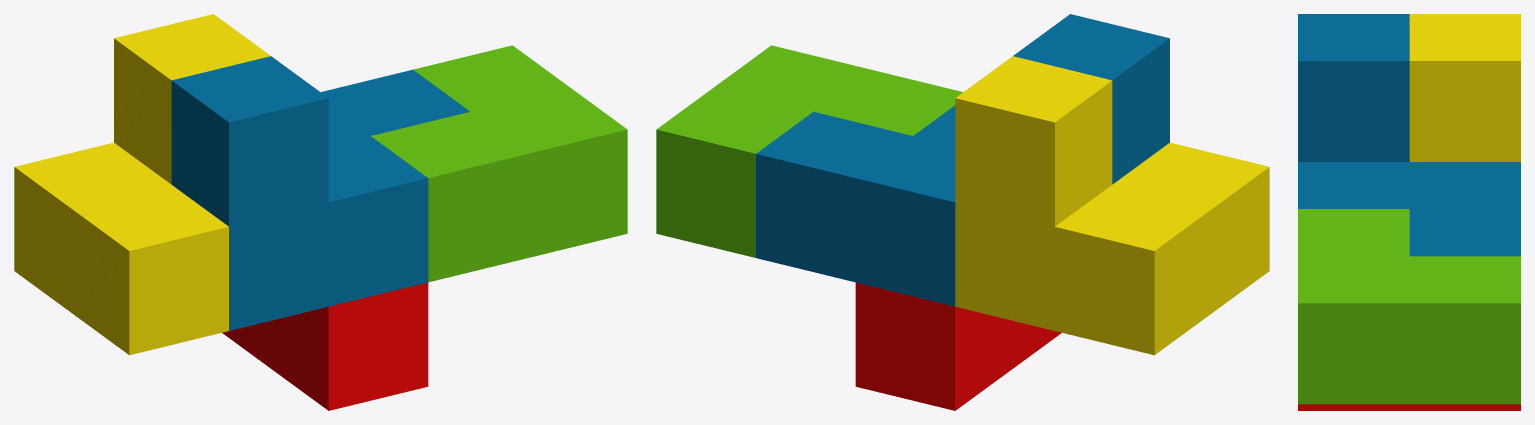
3 renders of one model, left to right at view 1: azimuth 30°, elevation 25°; view 2: azimuth 150°, elevation 25°; view 3: azimuth 270°, elevation 25°, orthographic. The views are drawn at different scales.
Visible parts, largest first — view 1: mergedBlocks(Clone); view 2: mergedBlocks(Clone); view 3: mergedBlocks(Clone).
Part boxes in pixels (bbox=[...]): mergedBlocks(Clone): bbox=[14, 14, 627, 410]; mergedBlocks(Clone): bbox=[656, 14, 1269, 410]; mergedBlocks(Clone): bbox=[1298, 14, 1520, 410].
Size of the model in its own units: 5 by 3 by 2.
Materials: 4 (4 with a texture image).
